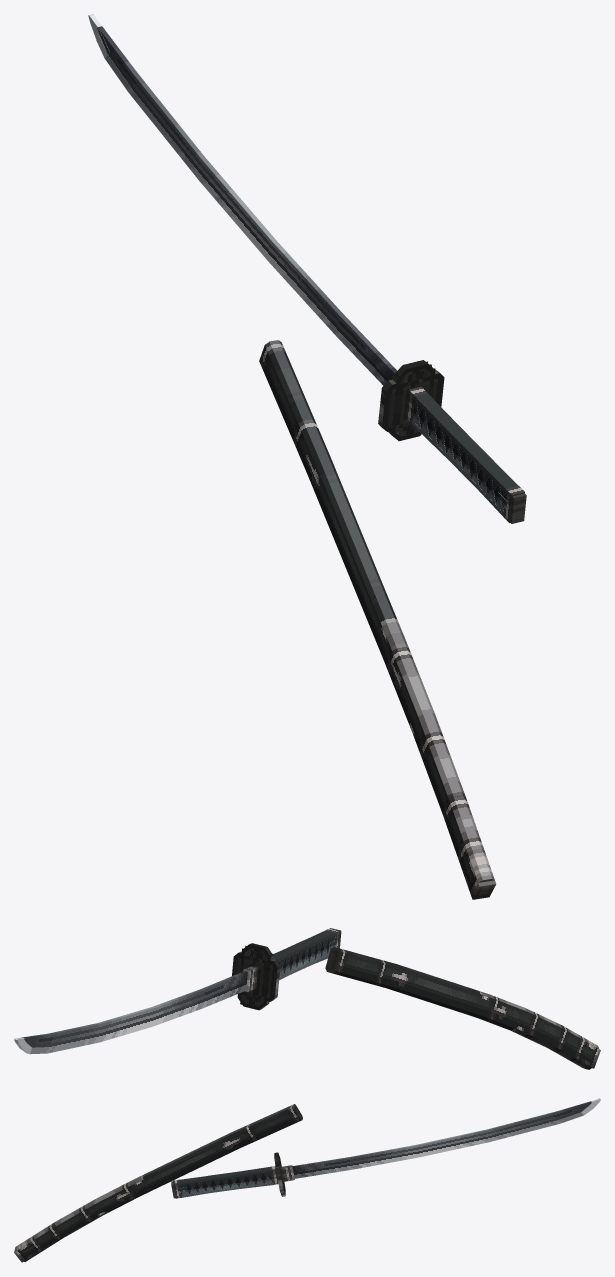
Rendered from kusabimaru.glb.
3 views of the same model, one above another, from view 1: azimuth 30°, elevation 25°; view 2: azimuth 150°, elevation 25°; view 3: azimuth 270°, elevation 25° (orthographic). The views are drawn at different scales.
Visible parts, largest first — view 1: main__Tool_R, main__Torso; view 2: main__Tool_R, main__Torso; view 3: main__Tool_R, main__Torso.
Part boxes in pixels (x1,y1,x2,y2): main__Tool_R: (88,14,526,523); main__Torso: (259,340,496,899); main__Tool_R: (14,928,341,1054); main__Torso: (325,947,600,1069); main__Tool_R: (171,1098,600,1198); main__Torso: (14,1104,302,1262).
Bounding box in the file's own units: 0.5131 × 0.9018 × 2.31.
1 material, 1 textured.
